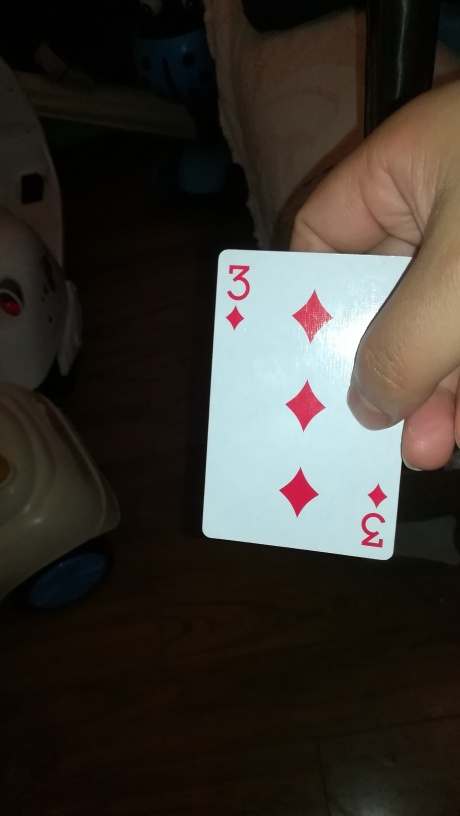fk 3: (201, 247, 394, 560)
